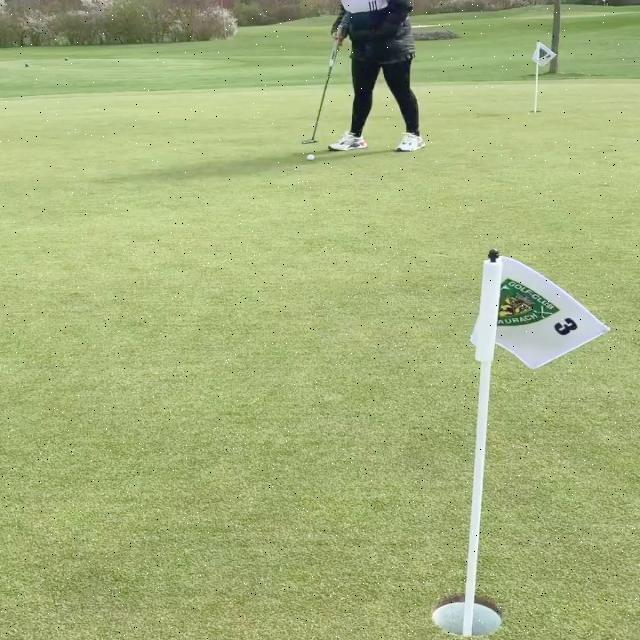ClubHead: (302, 137, 318, 144)
GolfBall: (306, 155, 316, 161)
